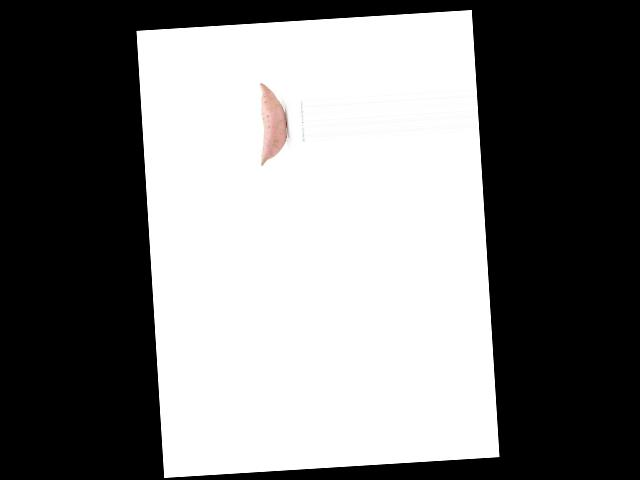sweet_potato: (251, 81, 289, 166)
